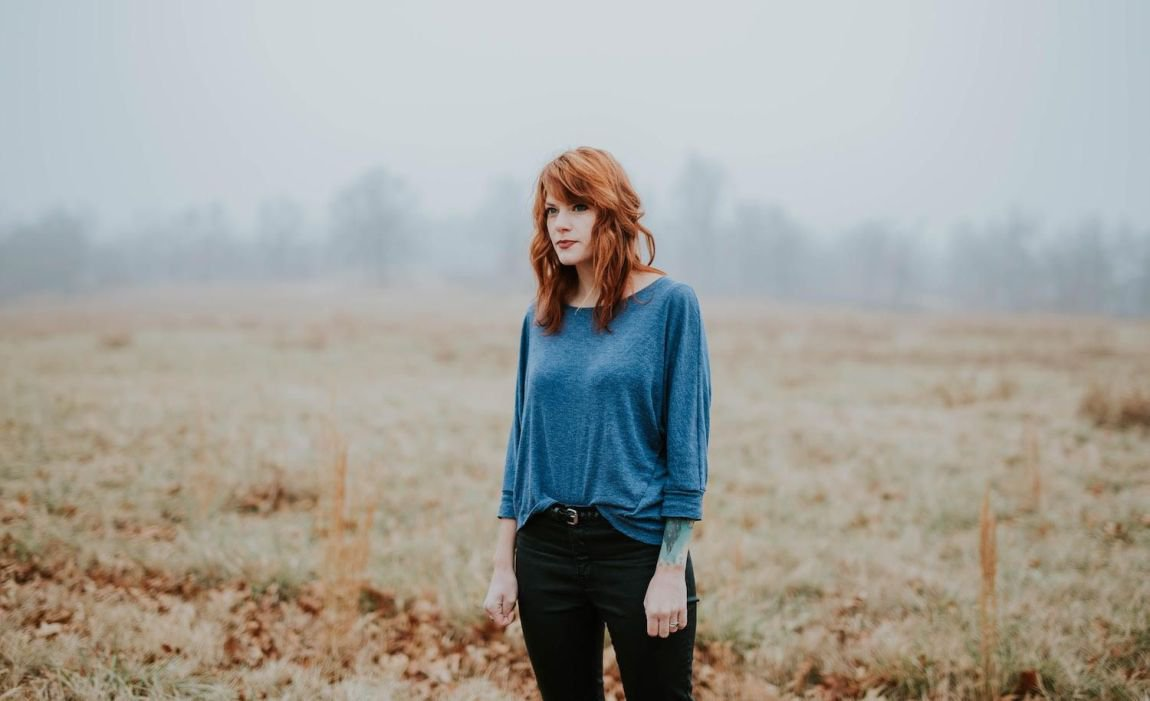noMask: (515, 147, 656, 296)
